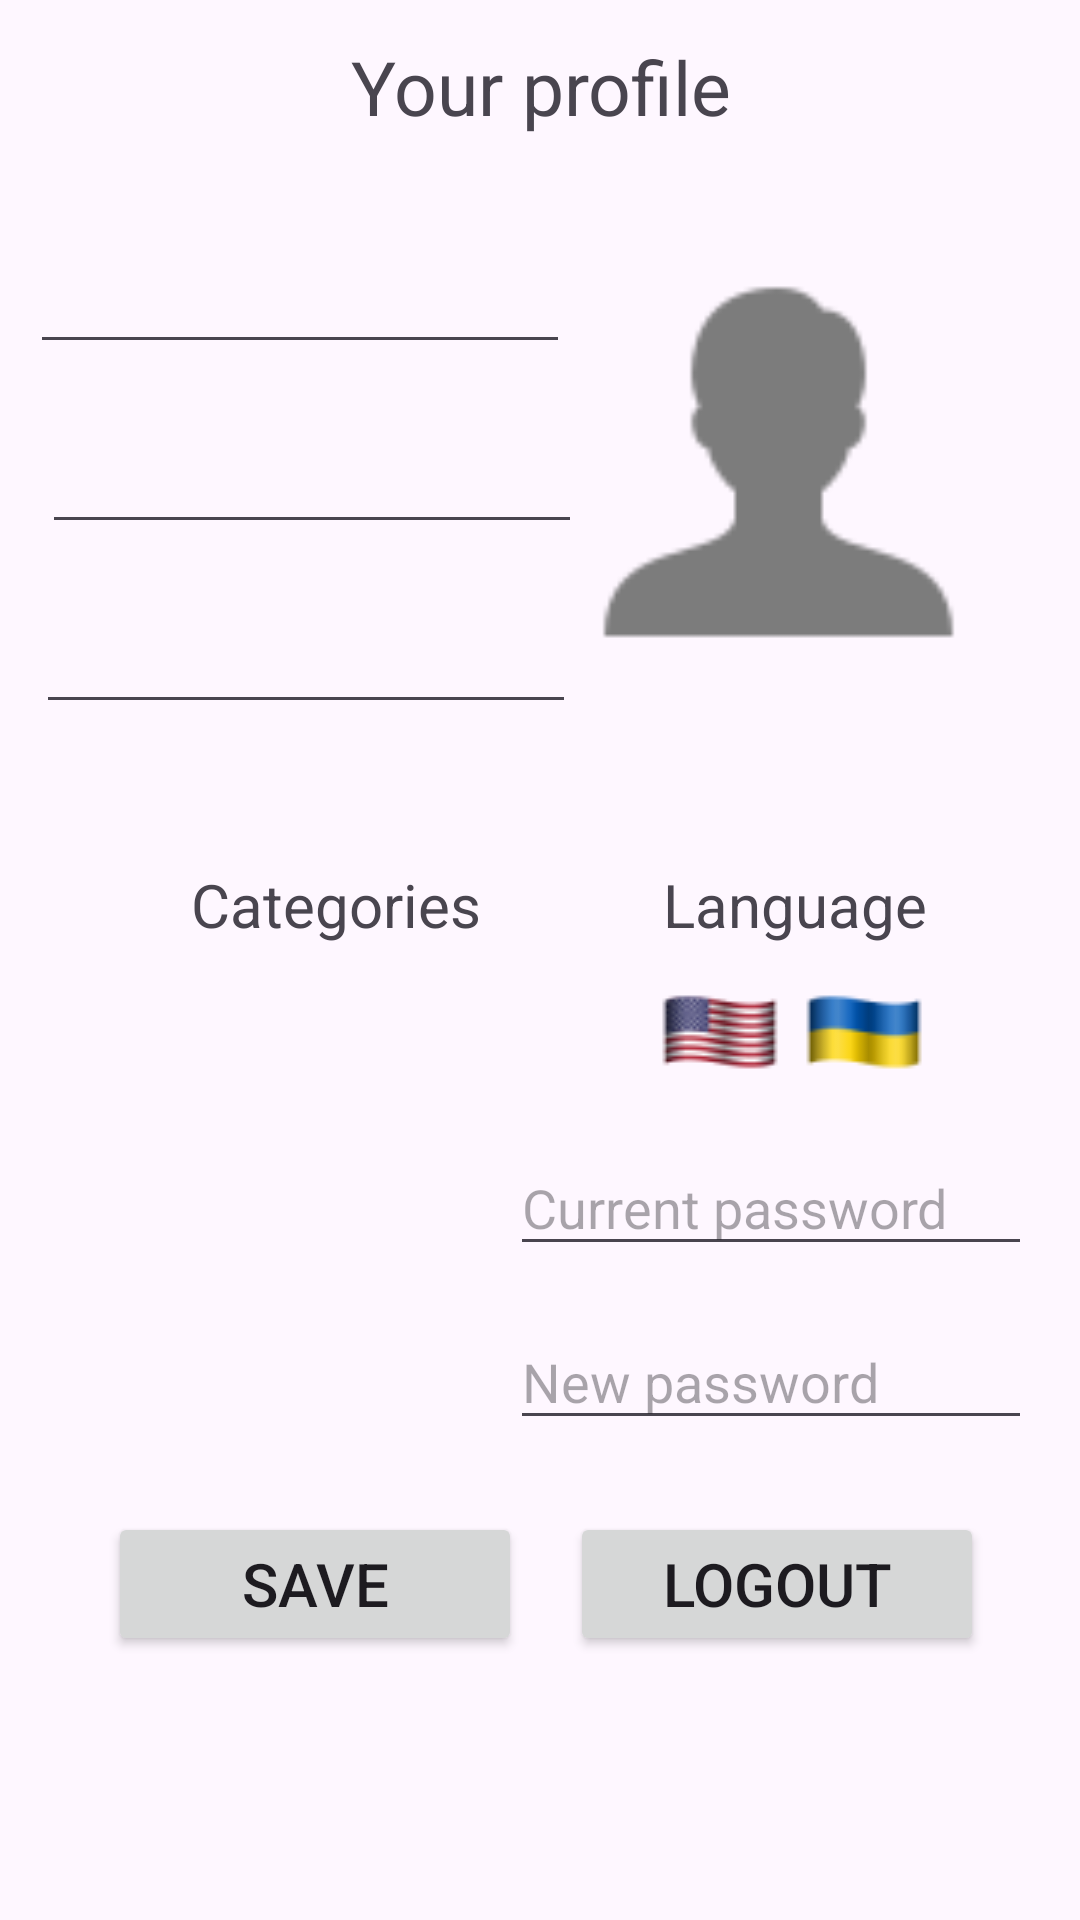

Named icons in this screenshot (1080px x 1920px) and their centers, [x,y]:
ukraine lang: [864,1032]
united states lang: [720,1032]
